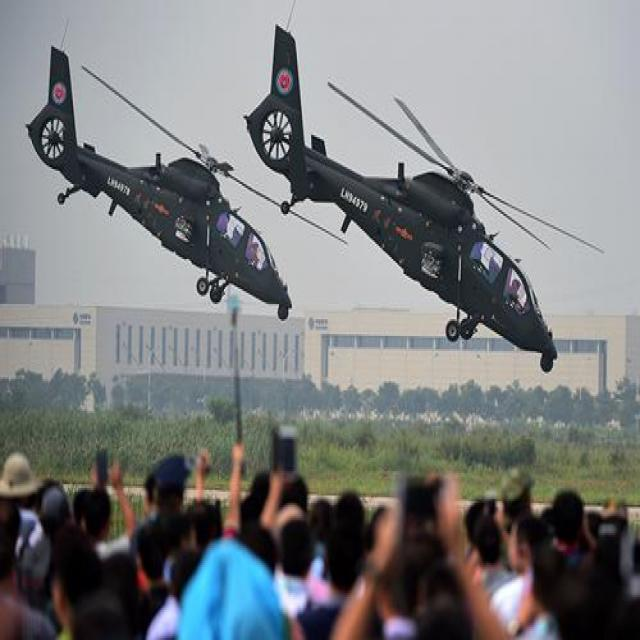MIL_HELO: (237, 18, 604, 372), (26, 29, 350, 325)
